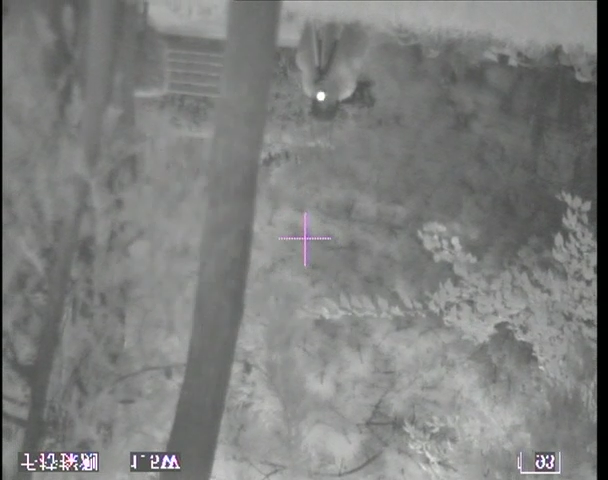my: (316, 90, 329, 103)
